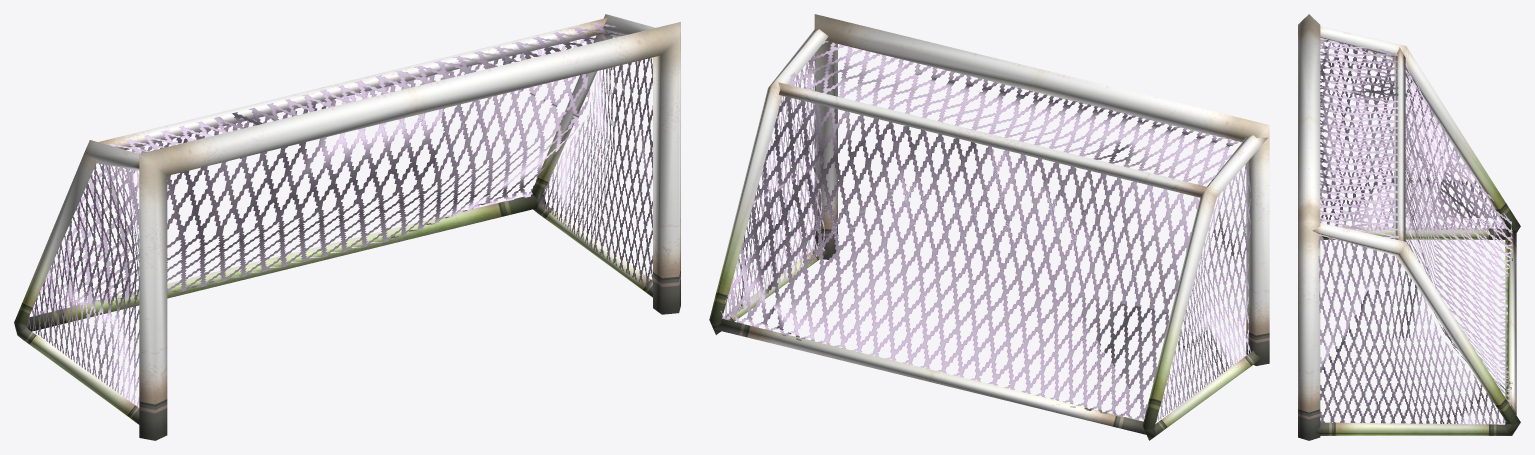
Rendered from a_SEground02.glb.
The picture shows the model from 3 angles, left to right: view 1: azimuth 30°, elevation 25°; view 2: azimuth 150°, elevation 25°; view 3: azimuth 270°, elevation 25°; orthographic projection. The views are drawn at different scales.
Visible parts, largest first — view 1: a_SEground02; view 2: a_SEground02; view 3: a_SEground02.
Part boxes in pixels (left/top/right/bottom): a_SEground02: left=14, top=14, right=680, bottom=440; a_SEground02: left=709, top=14, right=1269, bottom=440; a_SEground02: left=1298, top=14, right=1520, bottom=440.
Size of the model in its own units: 5.23 by 2.62 by 2.39.
2 materials, 2 textured.
